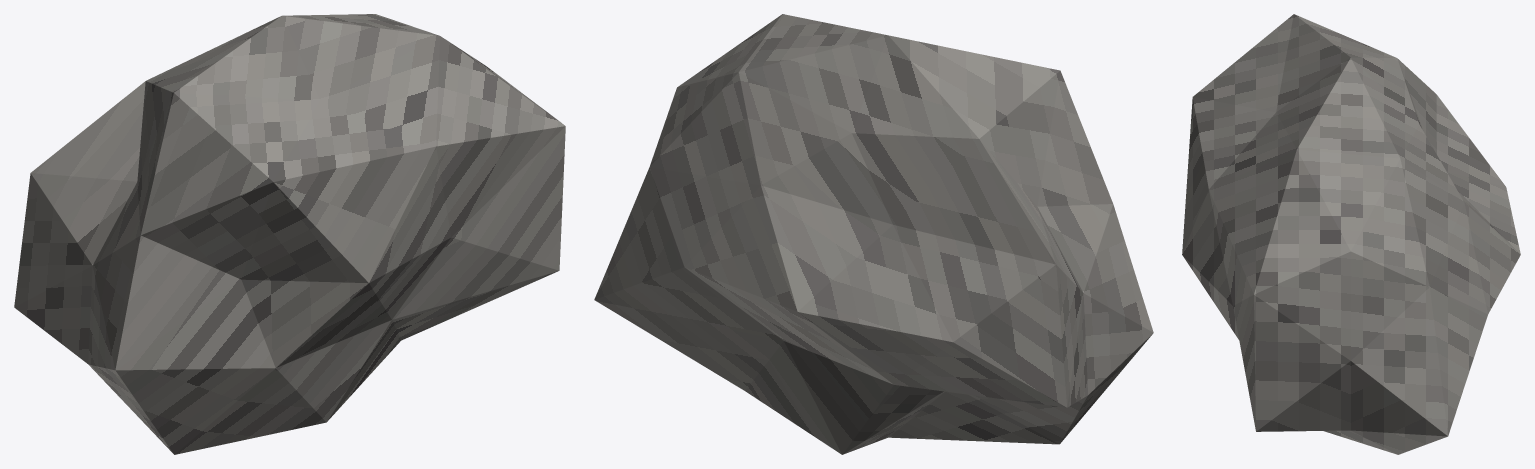
The model's file is stone_small_2.glb.
The picture shows the model from 3 angles, left to right: view 1: azimuth 30°, elevation 25°; view 2: azimuth 150°, elevation 25°; view 3: azimuth 270°, elevation 25°; orthographic projection. The views are drawn at different scales.
Visible parts, largest first — view 1: stone; view 2: stone; view 3: stone.
Boxes of the visible parts, left/top/right/bottom form: stone: left=14, top=14, right=565, bottom=454; stone: left=594, top=14, right=1153, bottom=454; stone: left=1182, top=14, right=1520, bottom=454.
Bounding box in the file's own units: 0.7487 × 0.6127 × 0.4983.
Materials: 1 (1 with a texture image).
